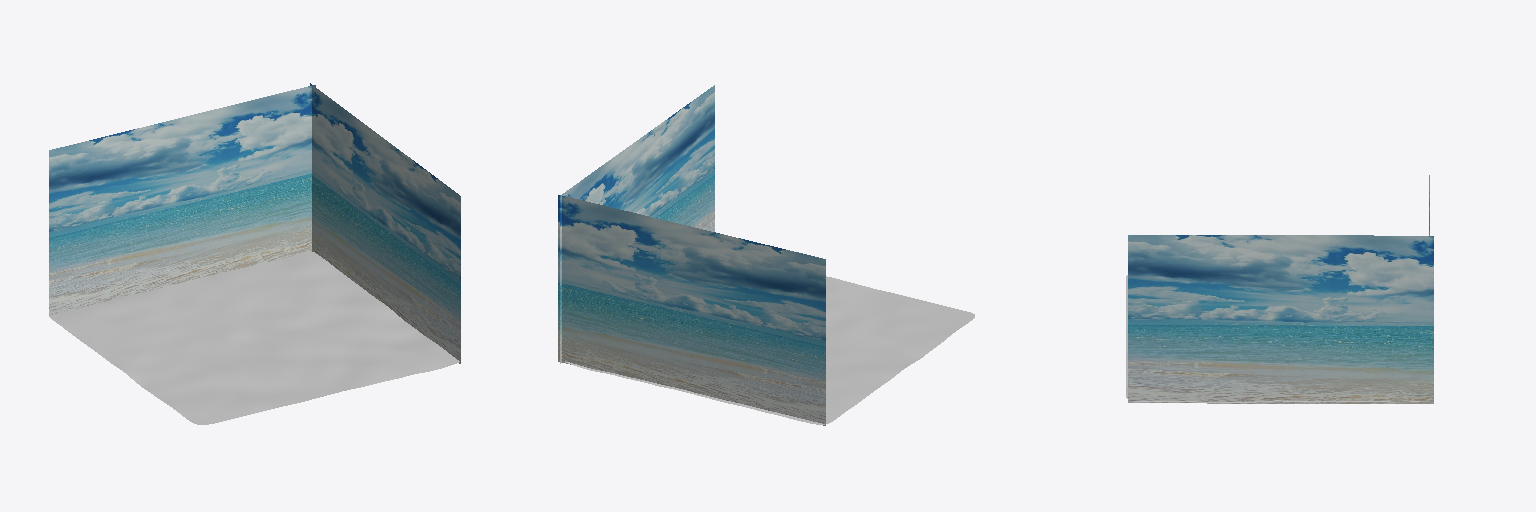
3 renders of one model, left to right at view 1: azimuth 30°, elevation 25°; view 2: azimuth 150°, elevation 25°; view 3: azimuth 270°, elevation 25°, orthographic.
Parts seen in each view (by area): view 1: sea_sea.005, Beach_Plane, sea2.001_sea2.003; view 2: sea_sea.005, Beach_Plane, sea2.001_sea2.003; view 3: sea2.001_sea2.003.
Part boxes in pixels (x1,y1,x2,y2): sea_sea.005: (49,85,315,314); Beach_Plane: (49,251,459,424); sea2.001_sea2.003: (310,83,460,363); sea_sea.005: (558,195,825,425); Beach_Plane: (565,276,974,424); sea2.001_sea2.003: (560,85,714,363); sea2.001_sea2.003: (1128,235,1433,403).
Size of the model in its own units: 16.03 by 9.56 by 15.86.
Materials: 4 (2 with a texture image).